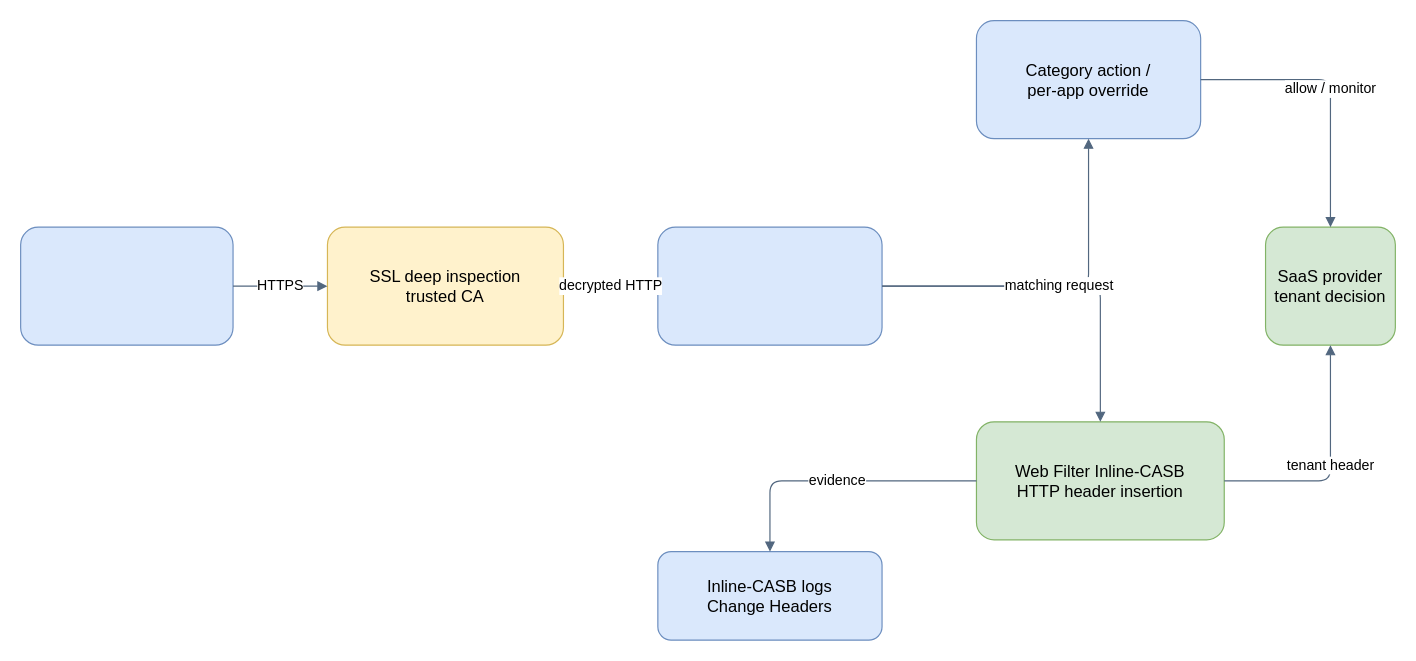
Image size: 1416x661. Some labels were removed from this diagram. The centre of each missing label's shape, as x and y in pixels:
IPS application decoder: the point at 769,285
Remote endpoint agent / SWG: the point at 126,285
